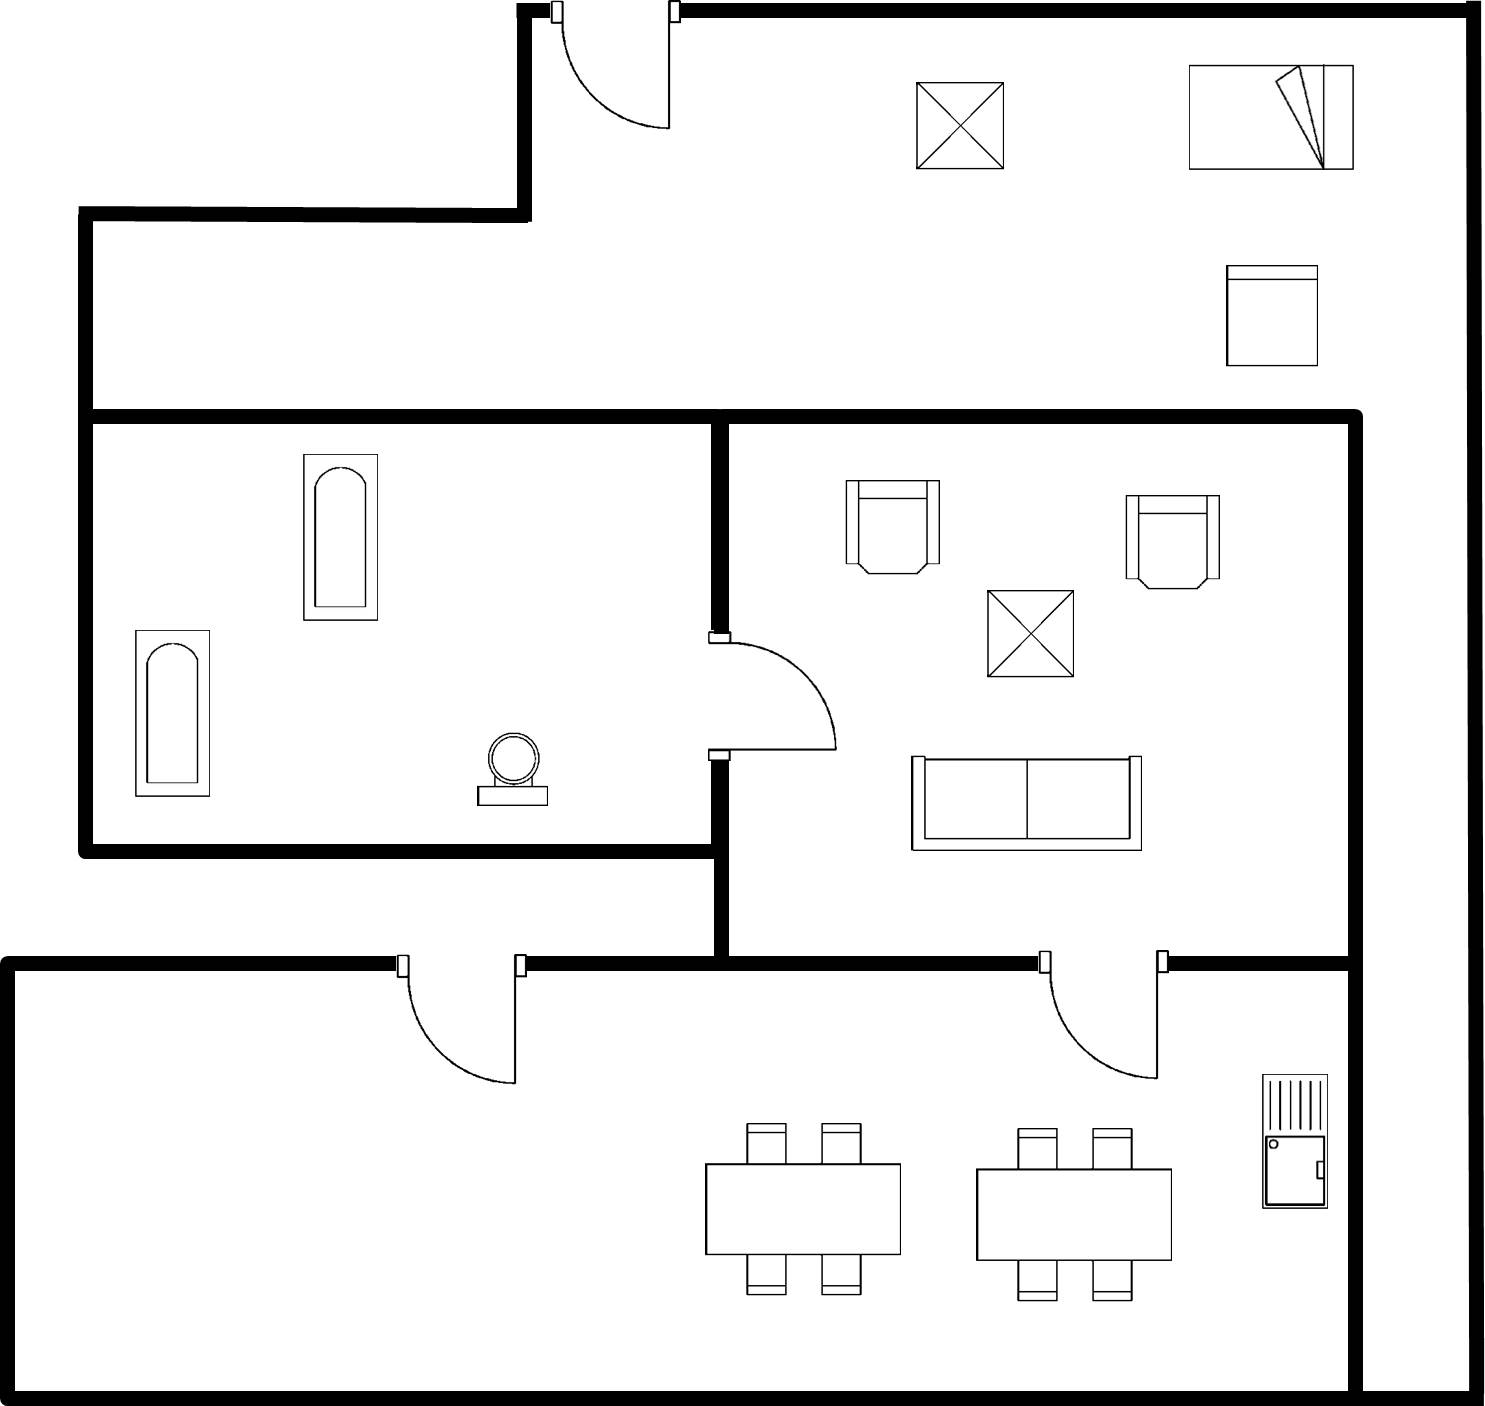armchair: (829, 467, 955, 592), (1108, 482, 1232, 606)
bed: (1177, 55, 1366, 185)
coffee_table: (904, 73, 1019, 184), (975, 581, 1085, 692)
dining_table: (964, 1117, 1186, 1310), (692, 1114, 911, 1306)
large_sink: (463, 725, 566, 819)
large_sofa: (895, 745, 1151, 864)
sink: (1248, 1060, 1338, 1222)
small_sofa: (1215, 248, 1330, 378)
tub: (296, 443, 406, 634), (121, 619, 222, 807)
